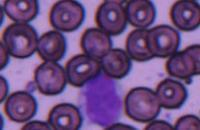M: (78, 70, 124, 128)
